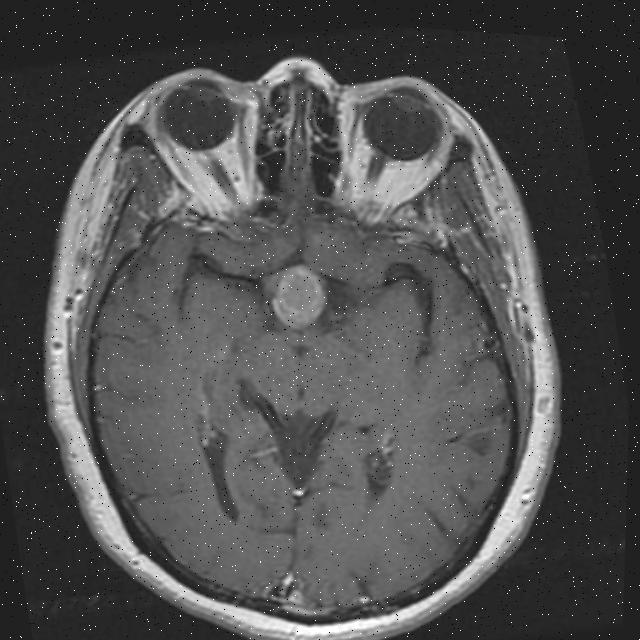Pituitary: (266, 258, 332, 334)
